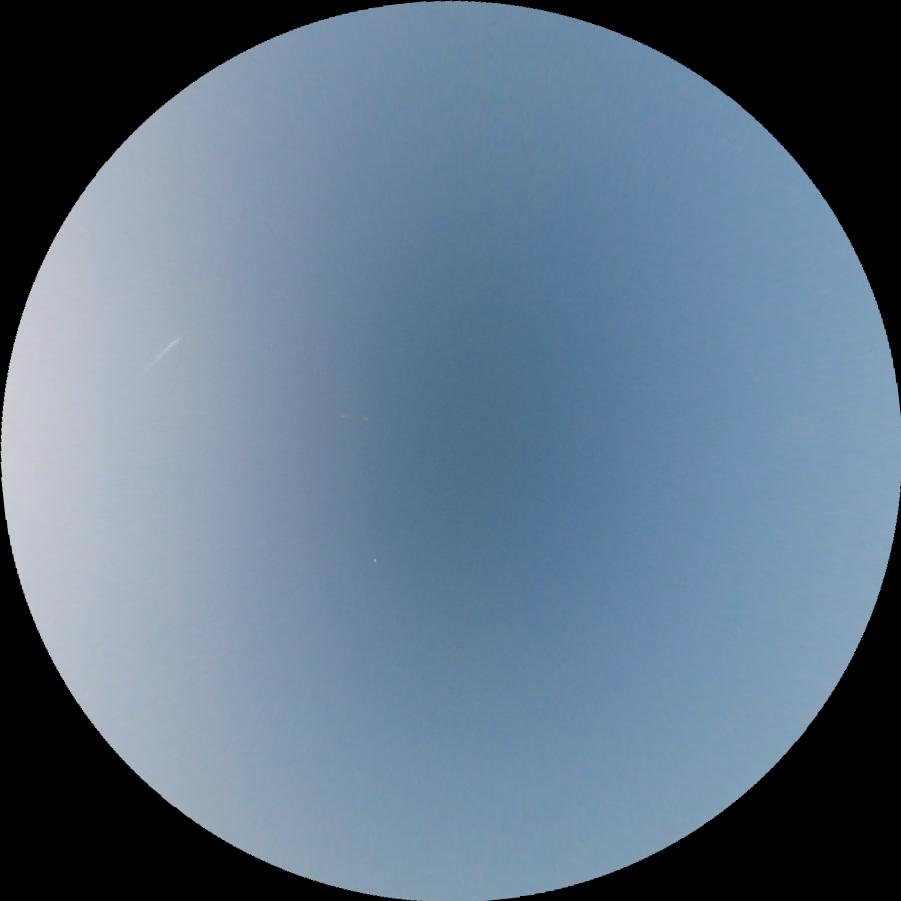contrail young: (145, 333, 182, 370)
